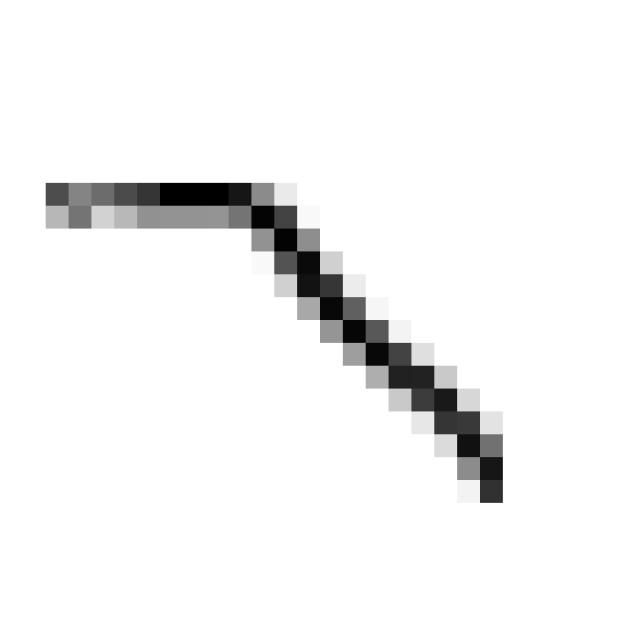6 -six-: (30, 158, 521, 522)
